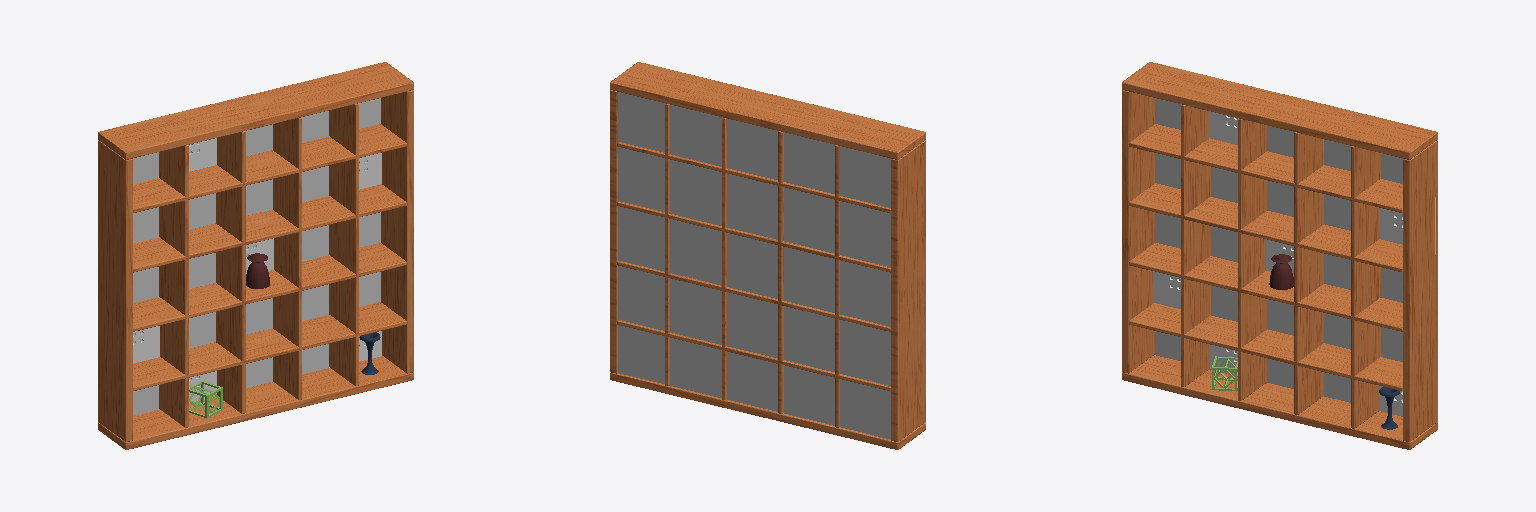
The picture shows the model from 3 angles: view 1: azimuth 30°, elevation 25°; view 2: azimuth 150°, elevation 25°; view 3: azimuth 330°, elevation 25°; orthographic projection.
Visible parts, largest first — view 1: Object__0; view 2: Object__0; view 3: Object__0.
Boxes of the visible parts, x1,y1,x2,y2 form: Object__0: [98, 62, 413, 449]; Object__0: [610, 62, 925, 449]; Object__0: [1122, 62, 1437, 449].
Size of the model in its own units: 1.53 by 1.51 by 0.2619.
Materials: 6 (1 with a texture image).